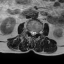CCS_normal: (32, 29, 34, 37)
LFS_normal: (36, 29, 38, 35)
LLS_normal: (34, 29, 36, 37)
RFS_normal: (28, 28, 30, 34)
RLS_normal: (30, 28, 32, 36)
